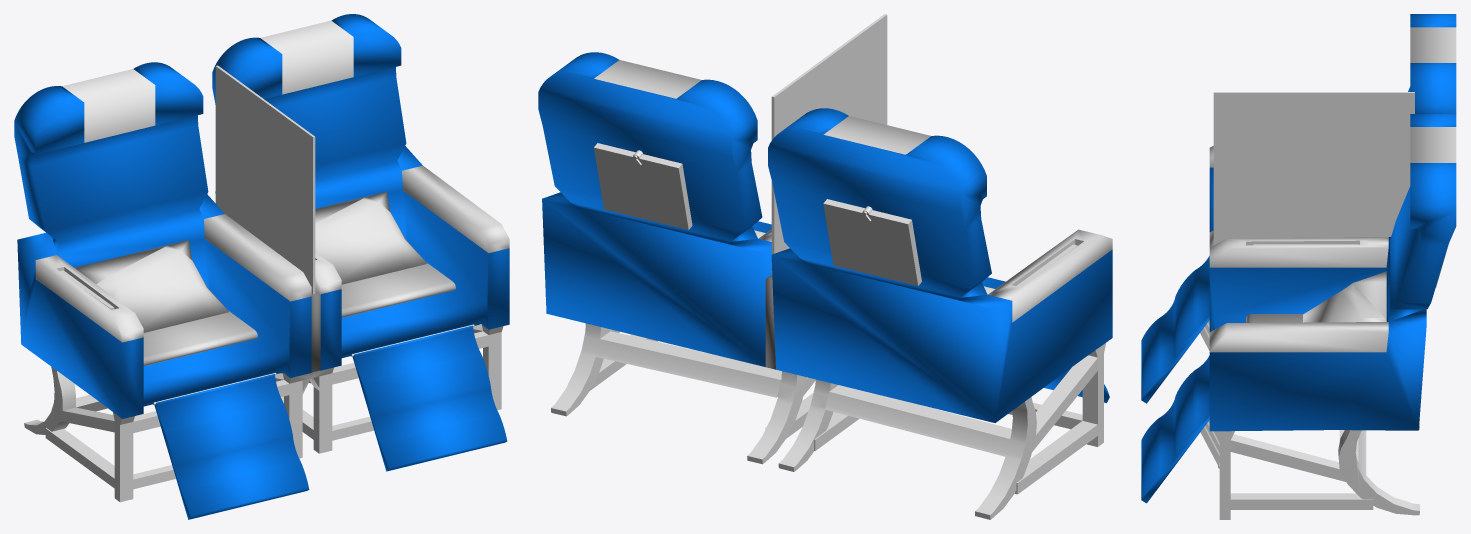
The picture shows the model from 3 angles, left to right: view 1: azimuth 30°, elevation 25°; view 2: azimuth 150°, elevation 25°; view 3: azimuth 270°, elevation 25°; orthographic projection. The views are drawn at different scales.
Parts seen in each view (by area): view 1: Group#27_003, Group#27_001, Group#32_001, Group#32_002, Group#35_001, Group#33_002, Pillow_003, Pillow_001, Group_009, Group_001, Group#33_001, Group#22_003 (+6 smaller); view 2: Group#27_003, Group#27_001, Group#33_002, Group#33_001, Group#35_001, Group#19_002, Group#19_001, Group#18_002, Group_009, Group_001, Group#20_001, Group#20_002 (+1 smaller); view 3: Group#27_001, Group#35_001, Group#33_001, Group#22_001, Group#18_001, Group#32_002, Group#32_001, Group#27_003, Pillow_001, Group_009, Group_001, Group#1_001.
Boxes of the visible parts, x1,y1,x2,y2 form: Group#27_003: (14,62,311,418); Group#27_001: (212,14,509,370); Group#32_001: (352,325,507,471); Group#32_002: (154,374,309,519); Group#35_001: (215,65,315,294); Group#33_002: (24,367,312,502); Pillow_003: (74,240,229,332); Pillow_001: (315,191,427,284); Group_009: (62,69,155,142); Group_001: (260,20,353,94); Group#33_001: (281,324,503,453); Group#22_003: (204,214,311,301); Group#27_003: (768,108,1112,422); Group#27_001: (538,52,771,366); Group#33_002: (778,343,1105,519); Group#33_001: (551,323,815,464); Group#35_001: (771,14,887,278); Group#19_002: (827,207,914,282); Group#19_001: (597,151,684,226); Group#18_002: (988,229,1112,322); Group_009: (823,116,930,154); Group_001: (594,60,701,98); Group#20_001: (594,143,692,230); Group#20_002: (823,199,921,285); Group#27_001: (1209,114,1456,431); Group#35_001: (1213,92,1414,244); Group#33_001: (1215,419,1419,519); Group#22_001: (1209,322,1388,352); Group#18_001: (1209,237,1388,267); Group#32_002: (1141,256,1209,403); Group#32_001: (1141,355,1209,503); Group#27_003: (1209,14,1456,231); Pillow_001: (1303,271,1386,322); Group_009: (1410,27,1456,62); Group_001: (1410,127,1456,162); Group#1_001: (1246,314,1303,322).
Size of the model in its own units: 52.31 by 41.4 by 35.7.
